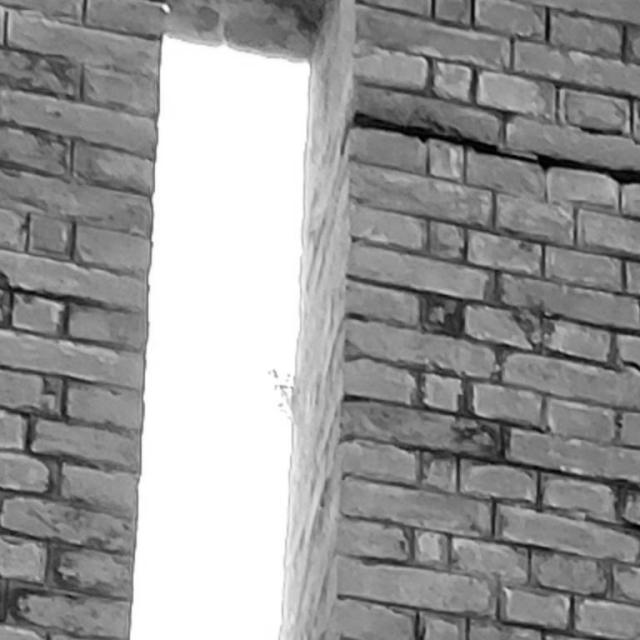crack: (351, 110, 640, 185)
